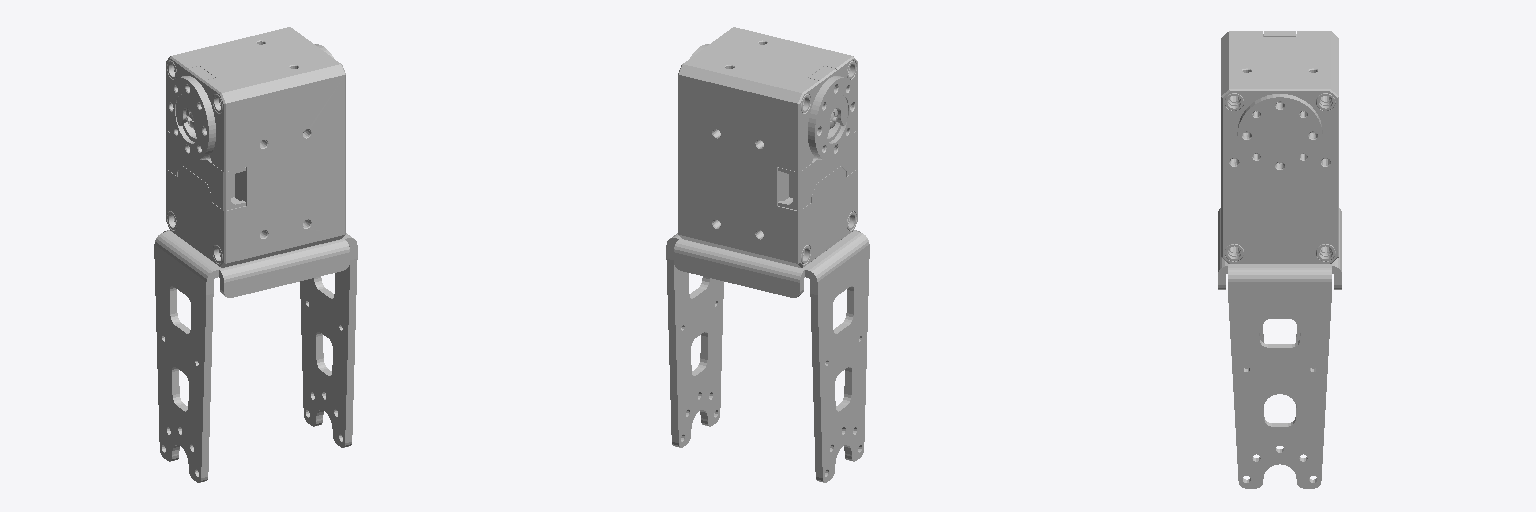
The model's file is thigh.obj.
The picture shows the model from 3 angles: view 1: azimuth 30°, elevation 25°; view 2: azimuth 150°, elevation 25°; view 3: azimuth 270°, elevation 25°; orthographic projection.
Parts seen in each view (by area): view 1: Solid1:1, Solid1, Solid1:11, Solid1:2, Solid1:12; view 2: Solid1:1, Solid1, Solid1:11, Solid1:2, Solid1:12; view 3: Solid1:1, Solid1.
Boxes of the visible parts, x1,y1,x2,y2 form: Solid1:1: [166, 27, 345, 267]; Solid1: [154, 230, 357, 482]; Solid1:11: [166, 76, 215, 160]; Solid1:2: [166, 130, 245, 210]; Solid1:12: [176, 94, 199, 139]; Solid1:1: [678, 27, 857, 267]; Solid1: [666, 230, 869, 482]; Solid1:11: [808, 76, 857, 160]; Solid1:2: [778, 130, 857, 210]; Solid1:12: [824, 94, 847, 139]; Solid1:1: [1221, 31, 1338, 263]; Solid1: [1218, 208, 1341, 488].
Bounding box in the file's own units: 0.042 × 0.1041 × 0.03.